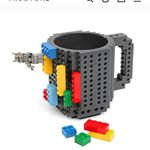cups: (38, 27, 137, 122)
